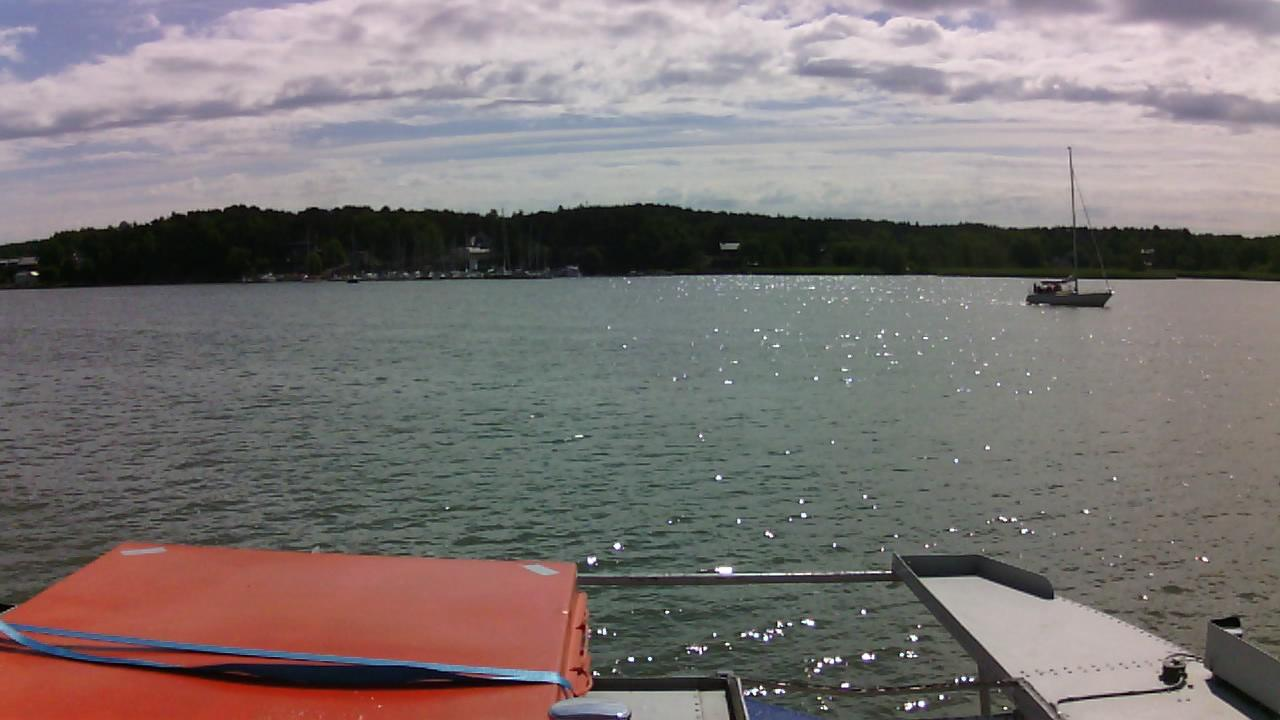Ship: (1027, 148, 1116, 311)
